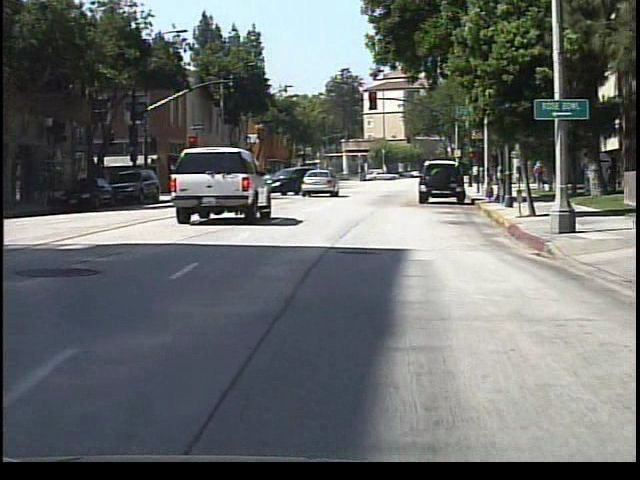person: (316, 159, 336, 196), (532, 158, 547, 194), (469, 159, 485, 187)
